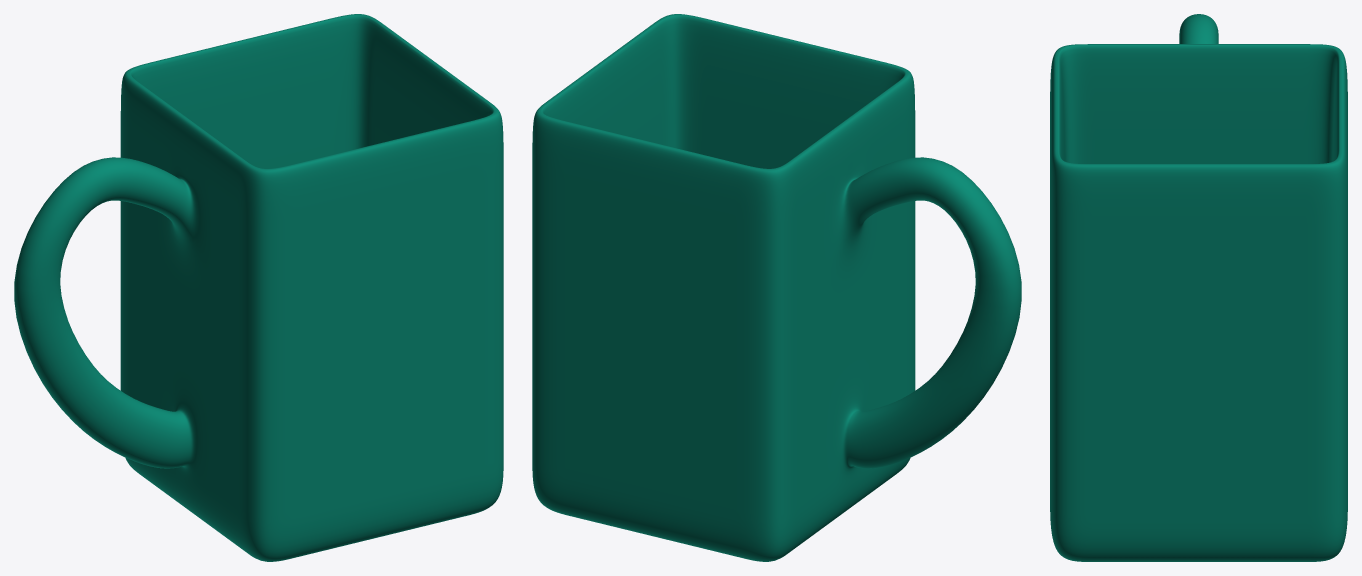
File: cuptea.obj
3 renders of one model, left to right at view 1: azimuth 30°, elevation 25°; view 2: azimuth 150°, elevation 25°; view 3: azimuth 270°, elevation 25°, orthographic.
Parts seen in each view (by area): view 1: Obj3d66_628188_1_957; view 2: Obj3d66_628188_1_957; view 3: Obj3d66_628188_1_957.
Part boxes in pixels (x1,y1,x2,y2): Obj3d66_628188_1_957: (14,14,503,561); Obj3d66_628188_1_957: (532,14,1021,561); Obj3d66_628188_1_957: (1050,14,1347,561).
Size of the model in its own units: 166 by 150 by 100.
